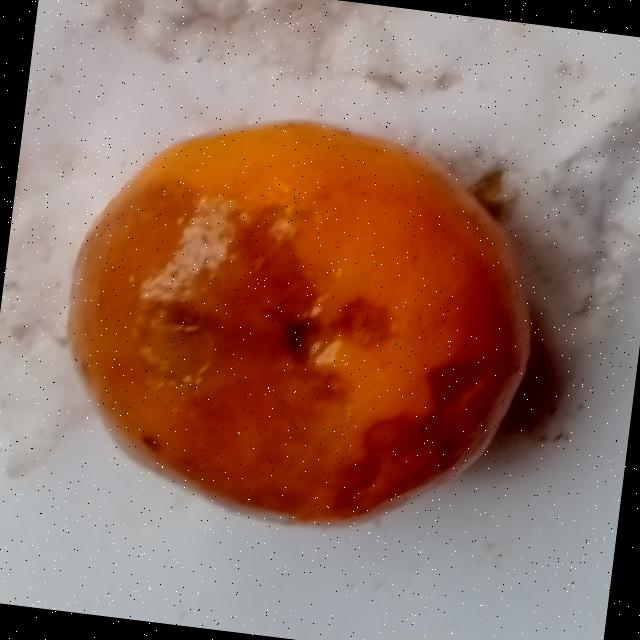Rotten: (39, 94, 554, 551)
